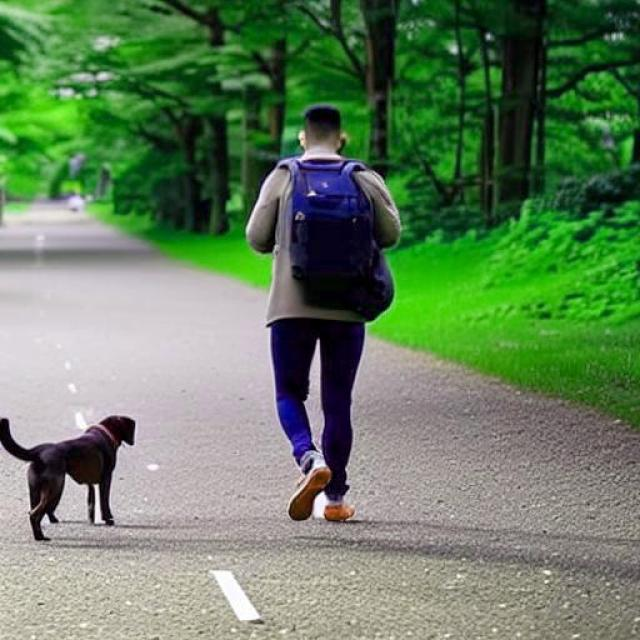Unleashed_Dog: (0, 300, 361, 540)
